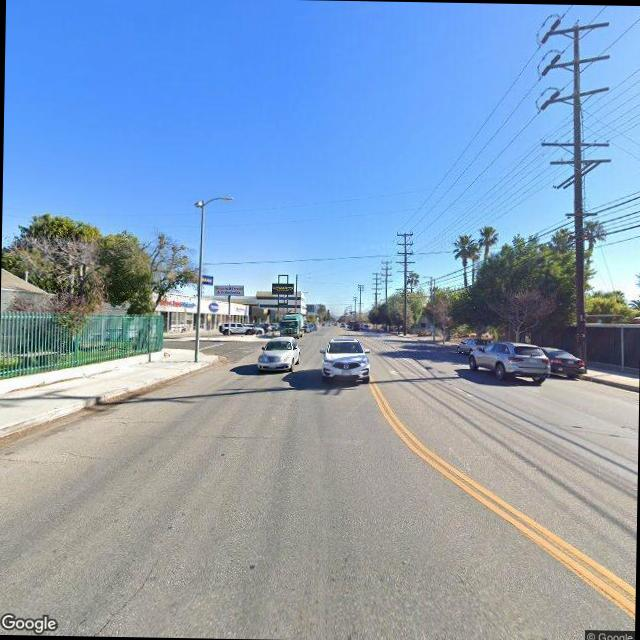crack: (80, 555, 162, 636)
